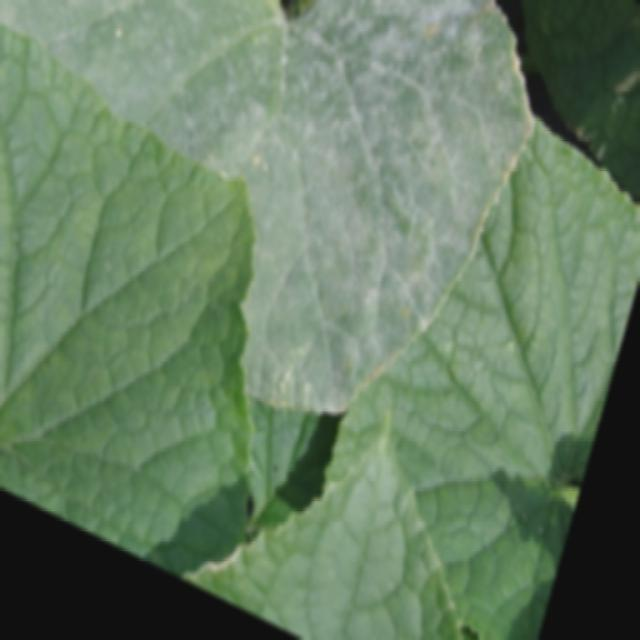Powdery_Mildew: (0, 0, 544, 422)
